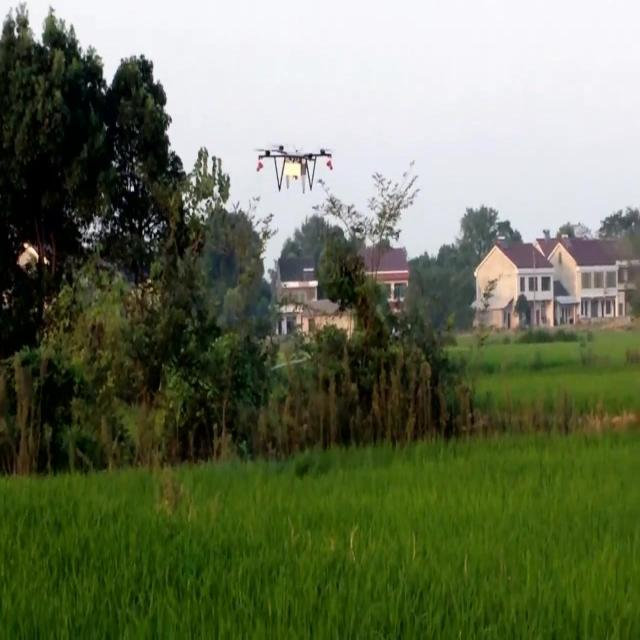drone: (252, 139, 338, 195)
